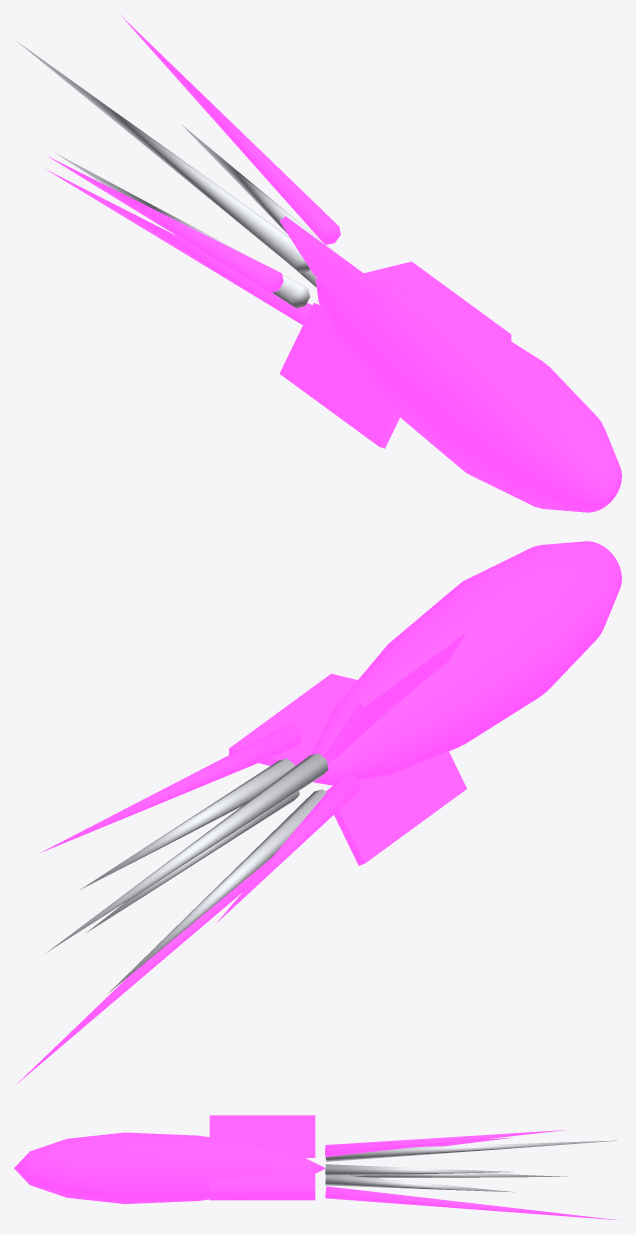
File: PlasmaRifle_Bolt.fbx
3 renders of one model, top to bottom at view 1: azimuth 30°, elevation 25°; view 2: azimuth 150°, elevation 25°; view 3: azimuth 270°, elevation 25°, orthographic. The views are drawn at different scales.
Visible parts, largest first — view 1: Bolt_Proyectil_Plasma; view 2: Bolt_Proyectil_Plasma; view 3: Bolt_Proyectil_Plasma.
Boxes of the visible parts, <box> form: Bolt_Proyectil_Plasma: <box>16,15,621,512</box>; Bolt_Proyectil_Plasma: <box>16,541,621,1084</box>; Bolt_Proyectil_Plasma: <box>14,1115,618,1220</box>.
Bounding box in the file's own units: 10.22 × 10.18 × 57.5.
